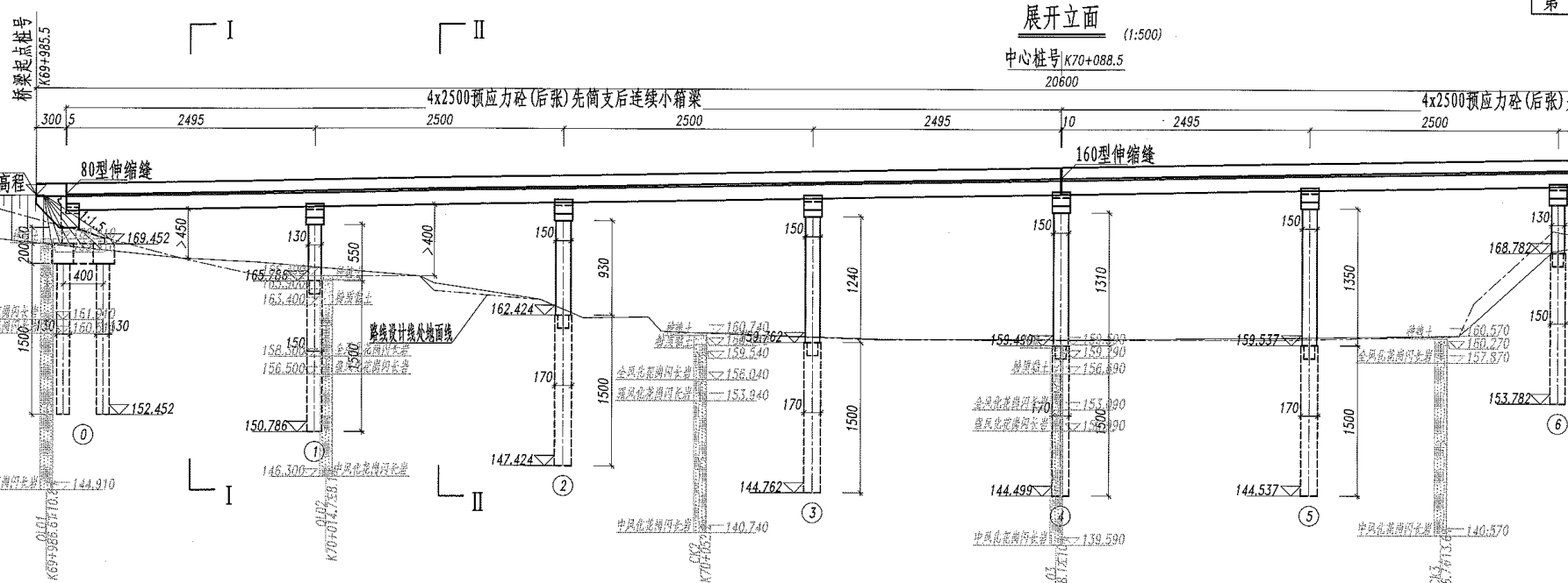C: (1224, 181, 1337, 535), (975, 183, 1086, 533), (736, 187, 839, 530), (480, 191, 590, 506), (238, 195, 335, 467), (1480, 176, 1567, 441)
